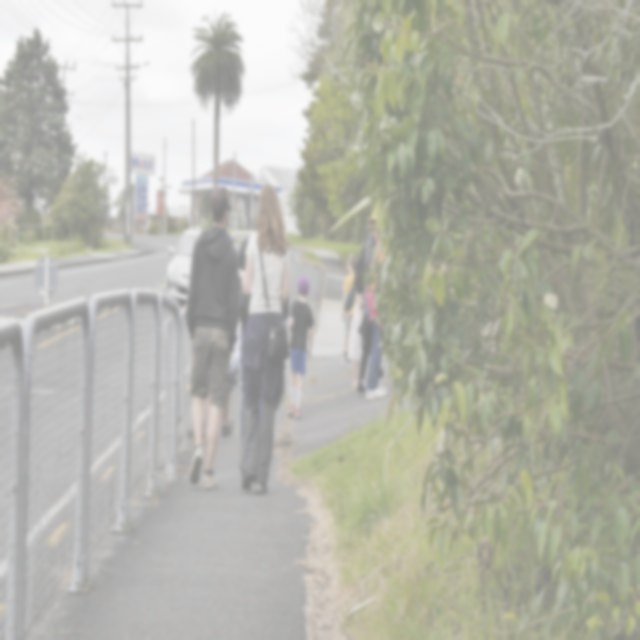pessoa: (183, 183, 241, 492), (238, 180, 291, 496), (236, 230, 264, 450), (352, 205, 382, 395), (366, 206, 388, 401), (286, 273, 314, 419), (205, 366, 234, 438), (340, 252, 358, 368)
